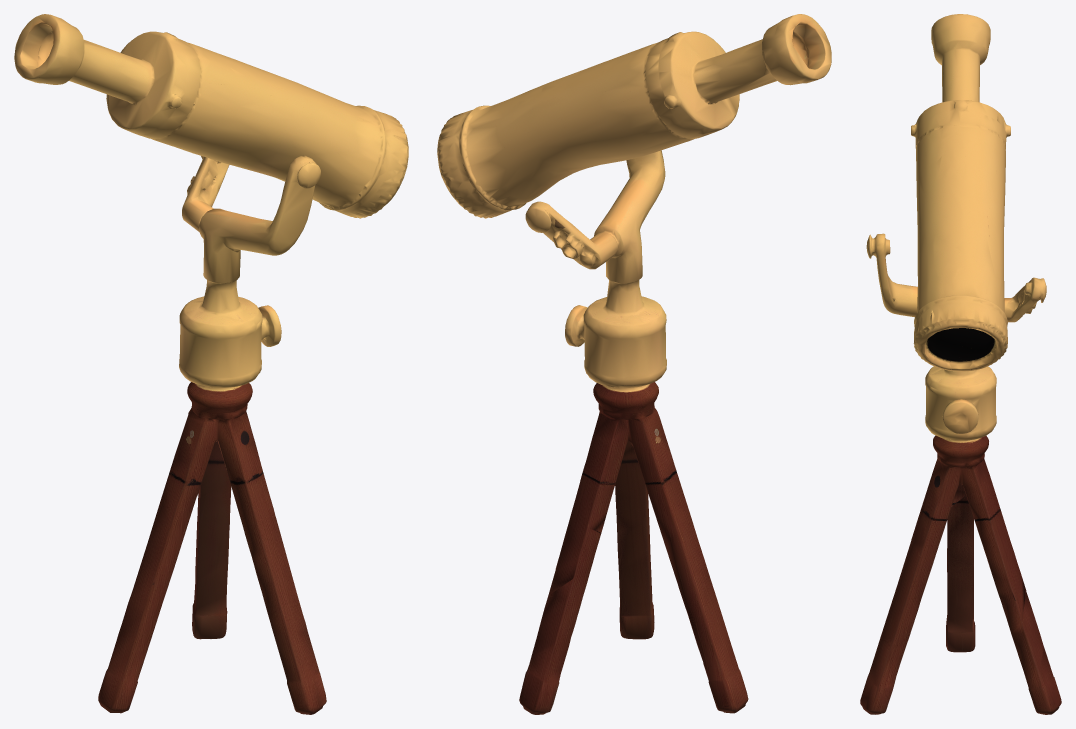
Rendered from telescope.glb.
3 views of the same model, side by side, from view 1: azimuth 30°, elevation 25°; view 2: azimuth 150°, elevation 25°; view 3: azimuth 270°, elevation 25° (orthographic). The views are drawn at different scales.
Bounding box in the file's own units: 1.06 × 1.91 × 0.5708.
Materials: 1 (1 with a texture image).
